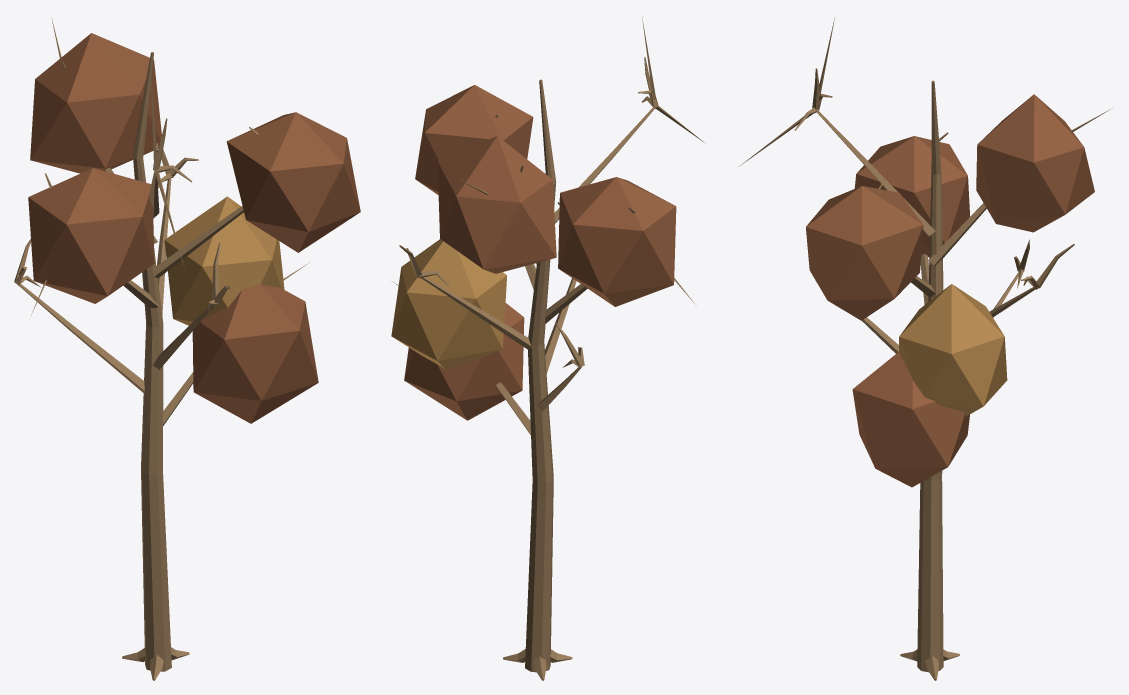
Rendered from oak_autumn_late_02.glb.
The picture shows the model from 3 angles, left to right: view 1: azimuth 30°, elevation 25°; view 2: azimuth 150°, elevation 25°; view 3: azimuth 270°, elevation 25°; orthographic projection. The views are drawn at different scales.
Visible parts, largest first — view 1: Oak_autumn_late_02; view 2: Oak_autumn_late_02; view 3: Oak_autumn_late_02.
Boxes of the visible parts, <box> form: Oak_autumn_late_02: <box>14,18,360,680</box>; Oak_autumn_late_02: <box>391,17,704,680</box>; Oak_autumn_late_02: <box>739,17,1113,680</box>.
Bounding box in the file's own units: 8.55 × 17.81 × 9.76.
